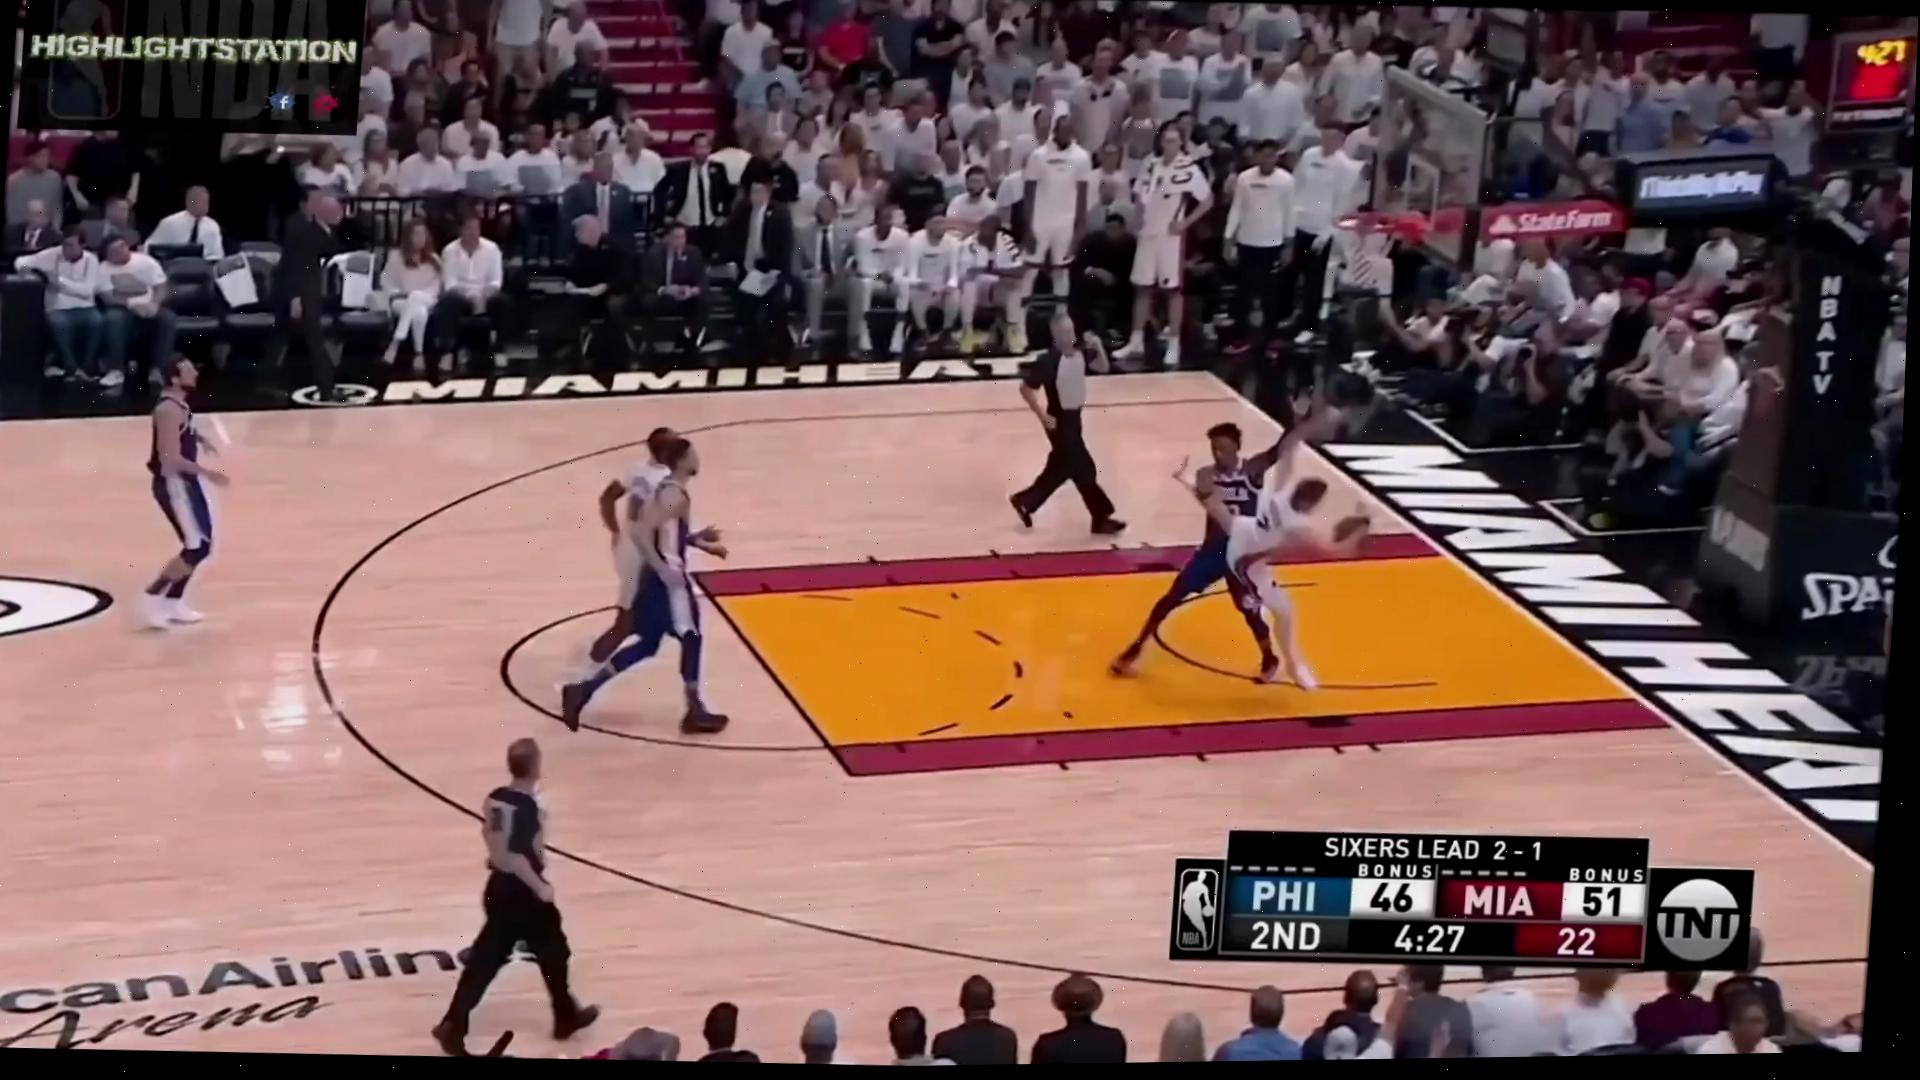foul: (1108, 396, 1375, 694)
